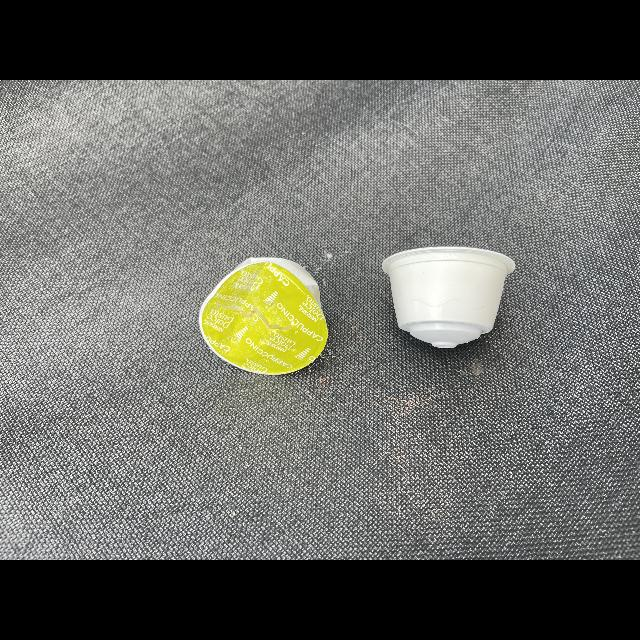damaged_capsule: (186, 250, 342, 392)
intact_capsule: (376, 231, 538, 355)
